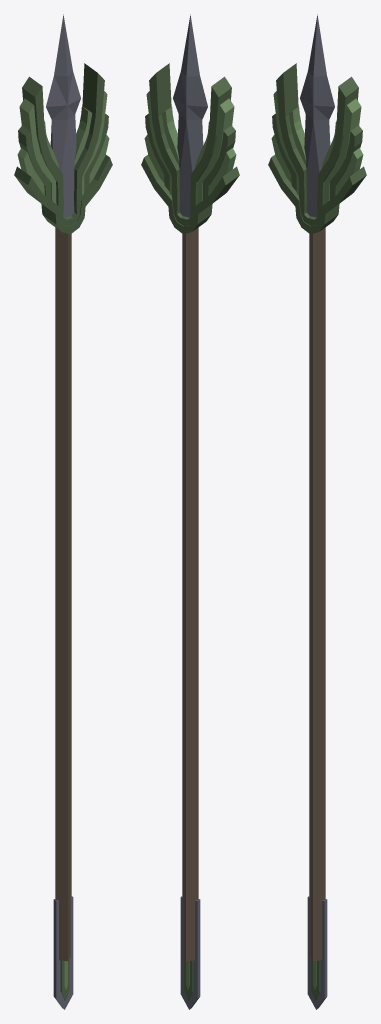
Rendered from Lanca_A06.fbx.
3 renders of one model, left to right at view 1: azimuth 30°, elevation 25°; view 2: azimuth 150°, elevation 25°; view 3: azimuth 330°, elevation 25°, orthographic.
Visible parts, largest first — view 1: polearm_6; view 2: polearm_6; view 3: polearm_6.
Boxes of the visible parts, bbox=[...] form: polearm_6: bbox=[14, 14, 112, 1009]; polearm_6: bbox=[141, 14, 239, 1009]; polearm_6: bbox=[268, 14, 366, 1009].
Size of the model in its own units: 18.33 by 204 by 5.27.
